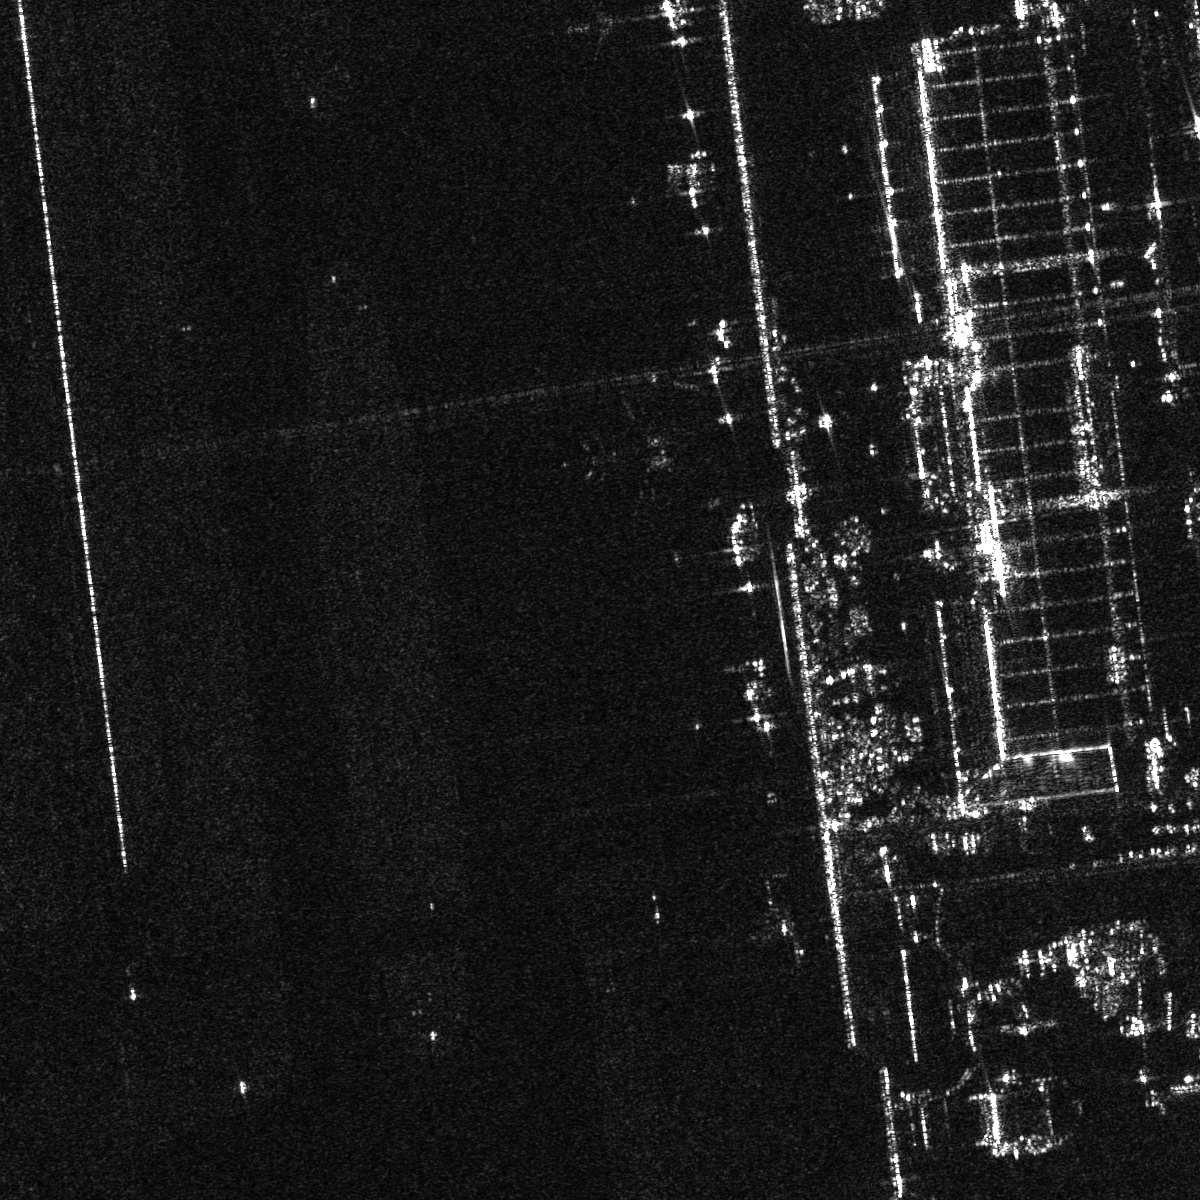Boeing787: (562, 402, 691, 511)
